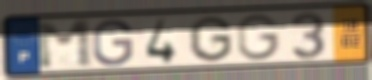3: (288, 9, 327, 62)
4: (143, 15, 181, 66)
G: (186, 14, 235, 64), (235, 13, 283, 62), (91, 17, 136, 68)
M: (32, 18, 97, 72)
